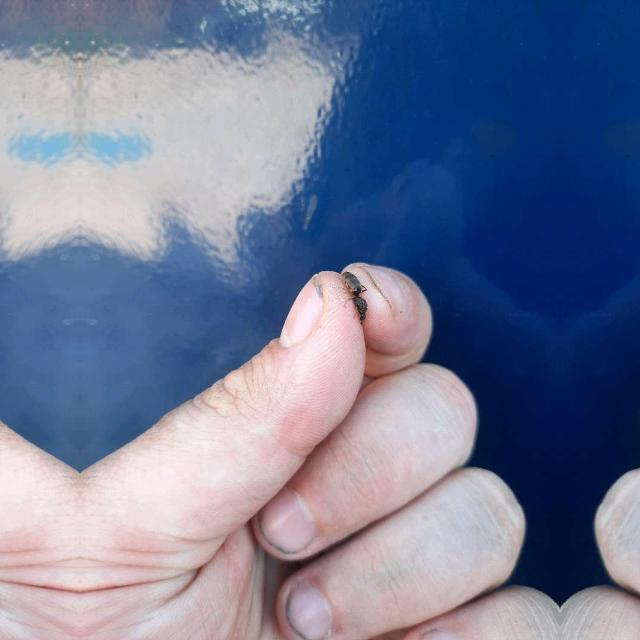Lasius: (336, 270, 374, 318)
